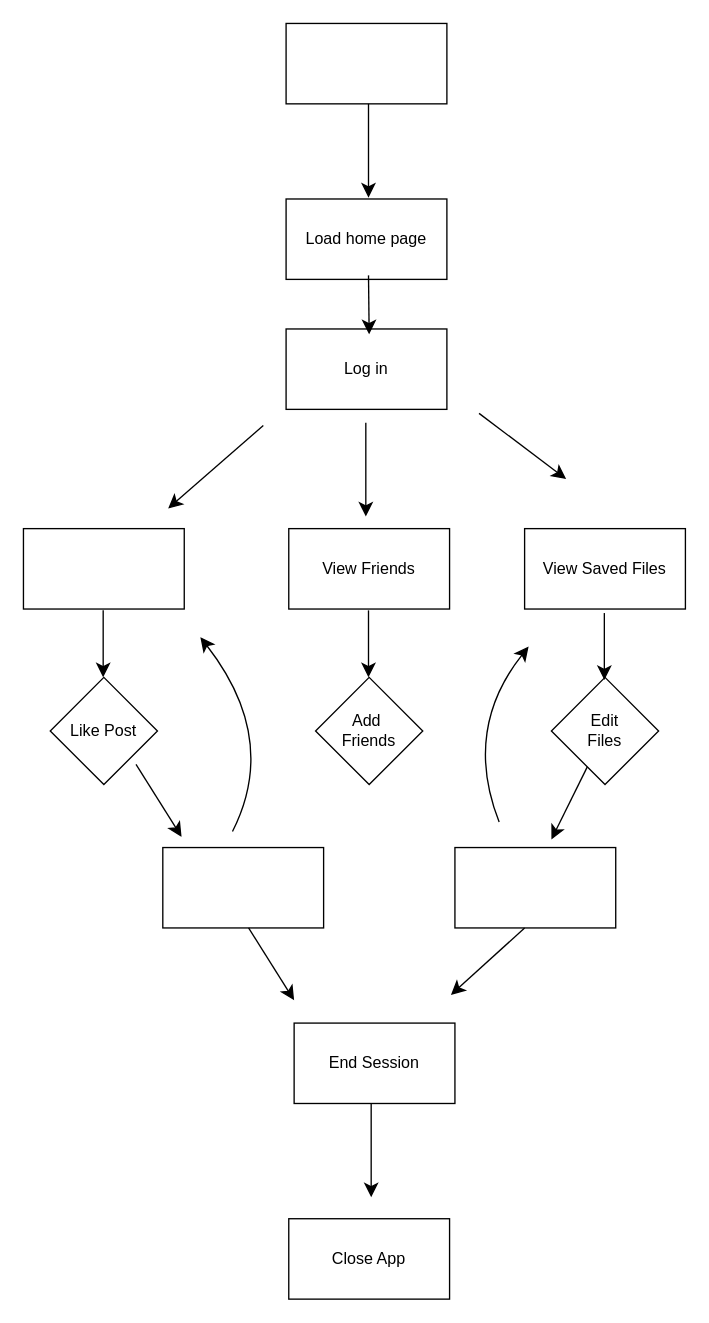
This 709x1323 diagram has some shape labels left out. Here are the shapes that lost their labels. From the top down, the centre of each, then its label:
At (x=366, y=63): "Open App".
At (x=103, y=568): "Choose Feed".
At (x=242, y=887): "Return to feed".
At (x=535, y=887): "Return to files".
